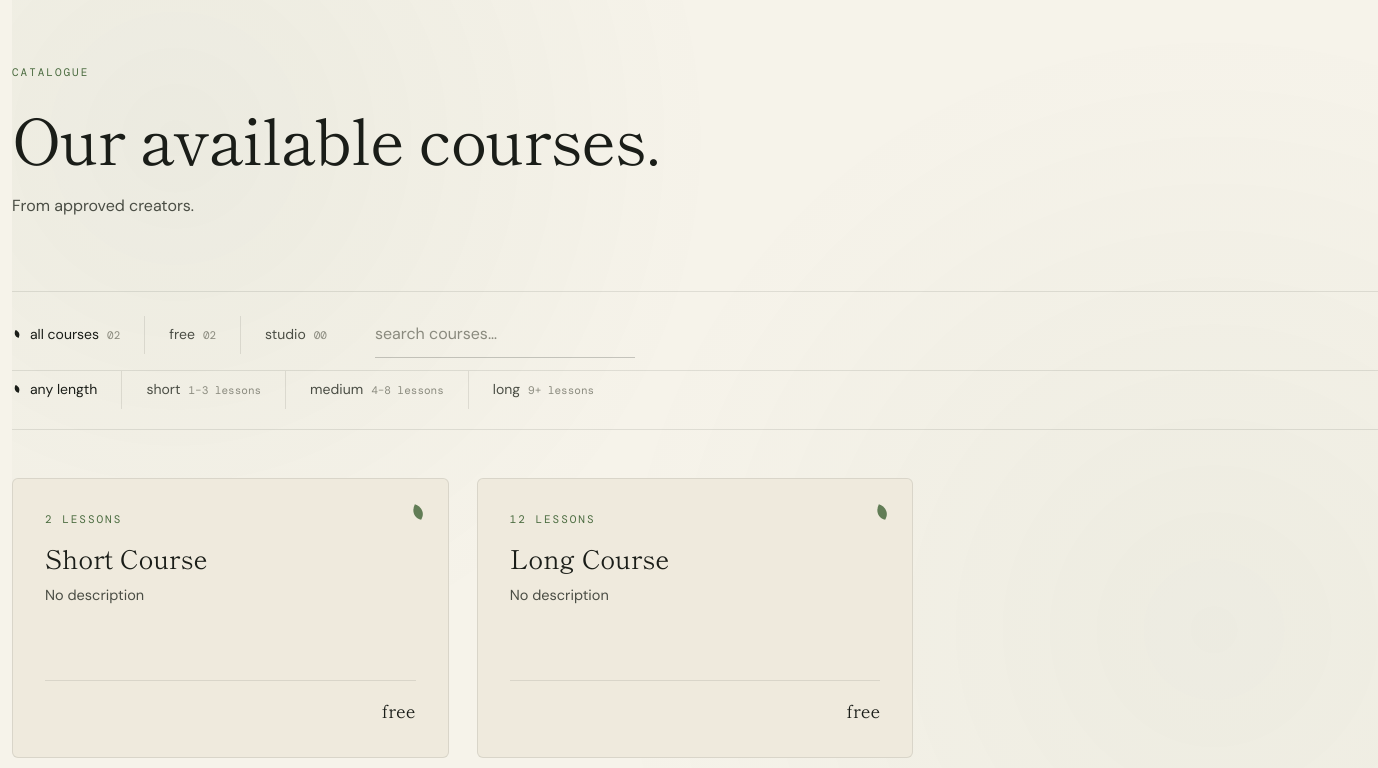
Test: Courses › filters courses by lesson-count bucket
Expected: the heading "Short Course" is shown, [45,539,208,576]
Step 1. Click the button "long 9+ lessons" → x=555, y=390, box [493,371,618,408]
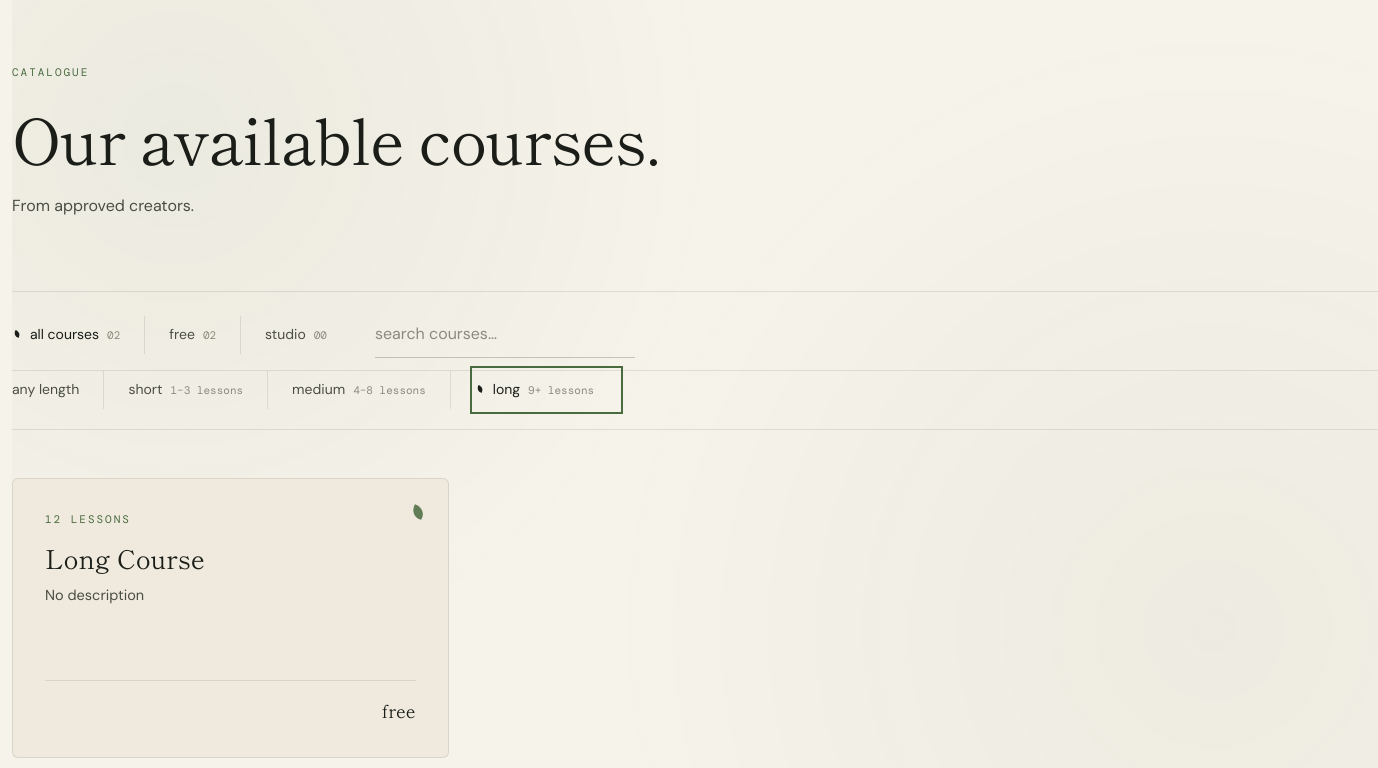
Expected: the heading "Long Course" is shown, [45,539,205,576]
Now the link "Short Course" is gone
